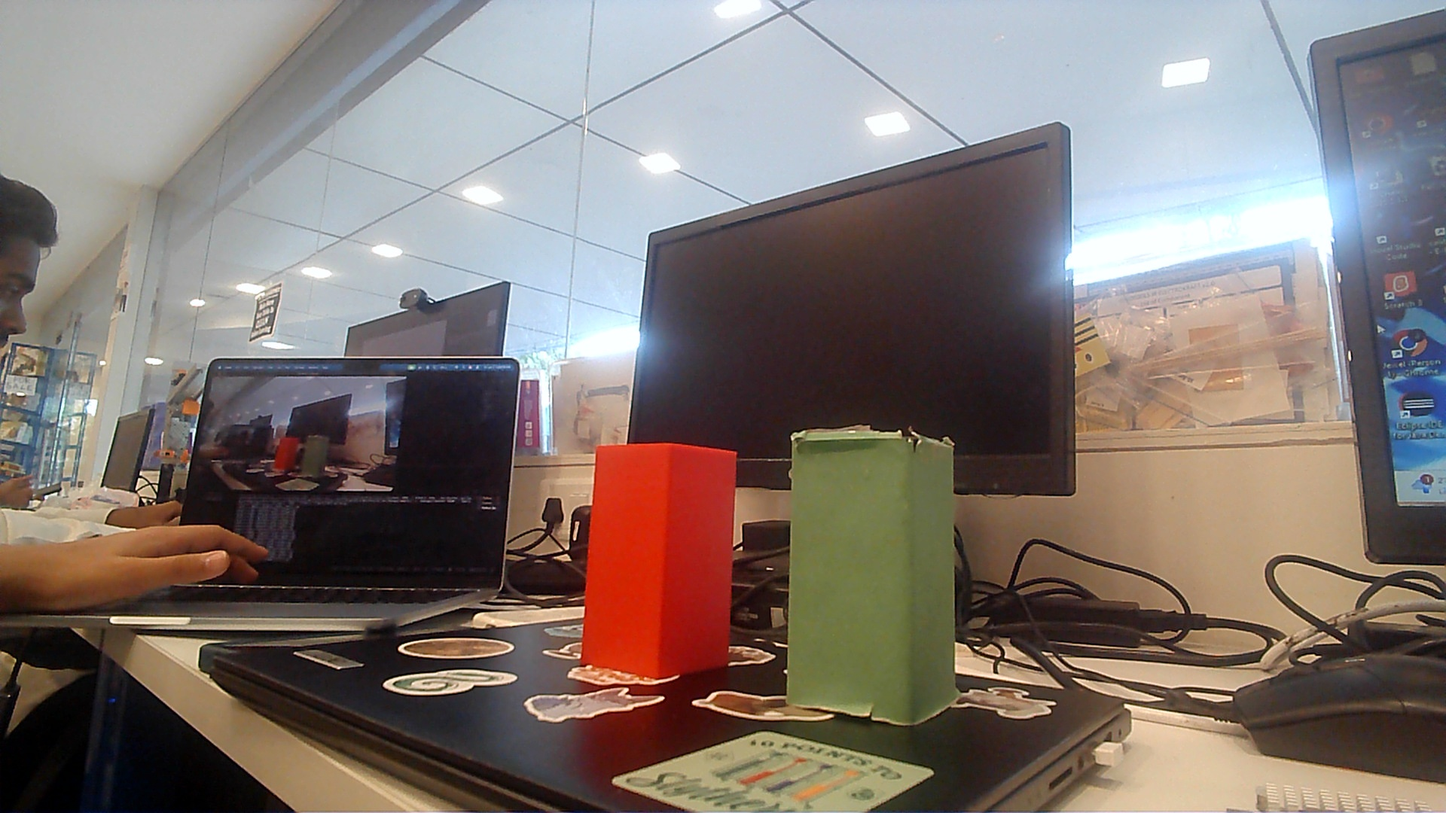red: (580, 434, 744, 682)
